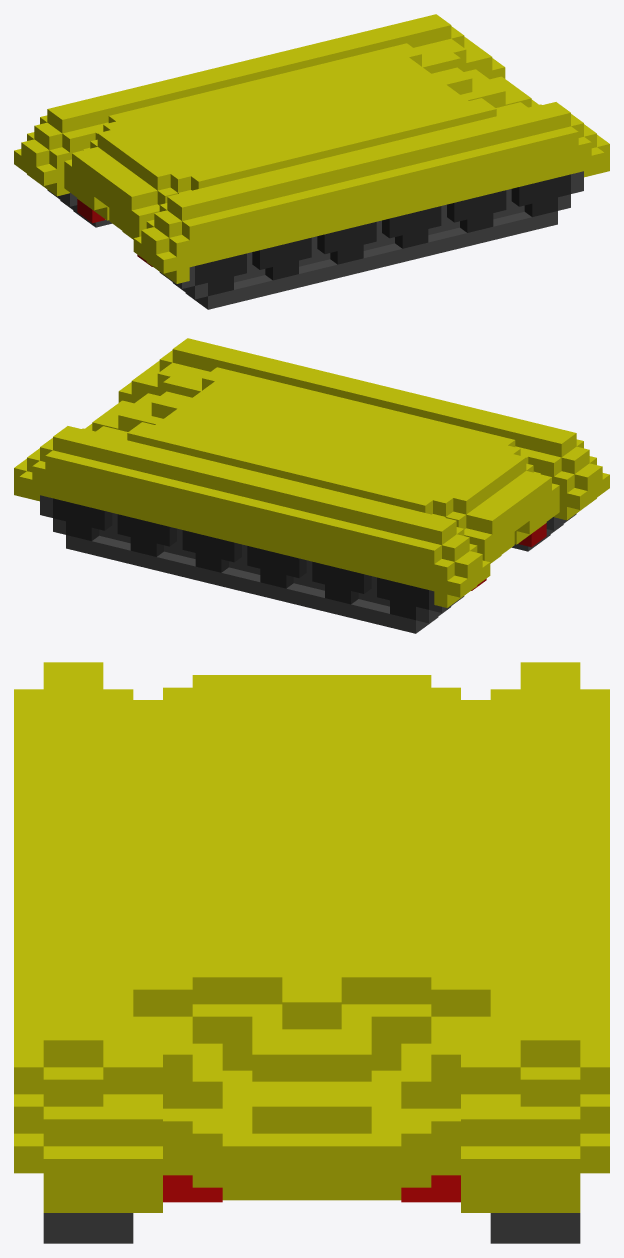
Rendered from MiddleTankBody.obj.
The picture shows the model from 3 angles, top to bottom: view 1: azimuth 30°, elevation 25°; view 2: azimuth 150°, elevation 25°; view 3: azimuth 270°, elevation 25°; orthographic projection. The views are drawn at different scales.
Size of the model in its own units: 3.5 by 0.8 by 2.
Materials: 1 (1 with a texture image).
